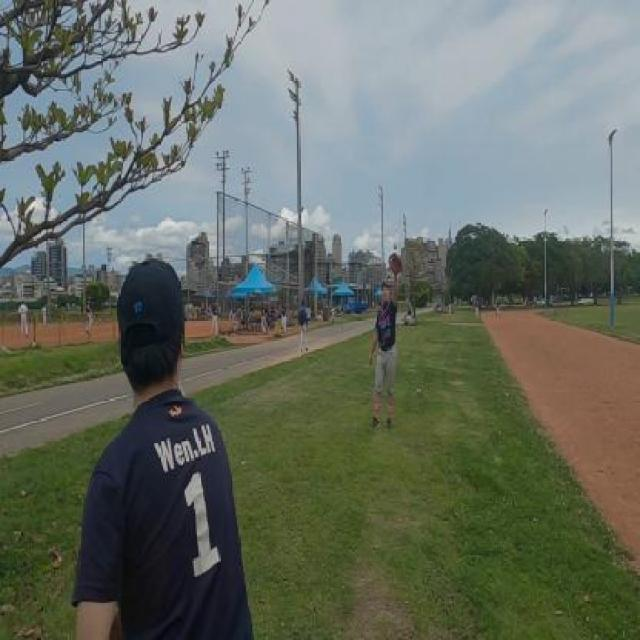baseball: (393, 243, 398, 251)
